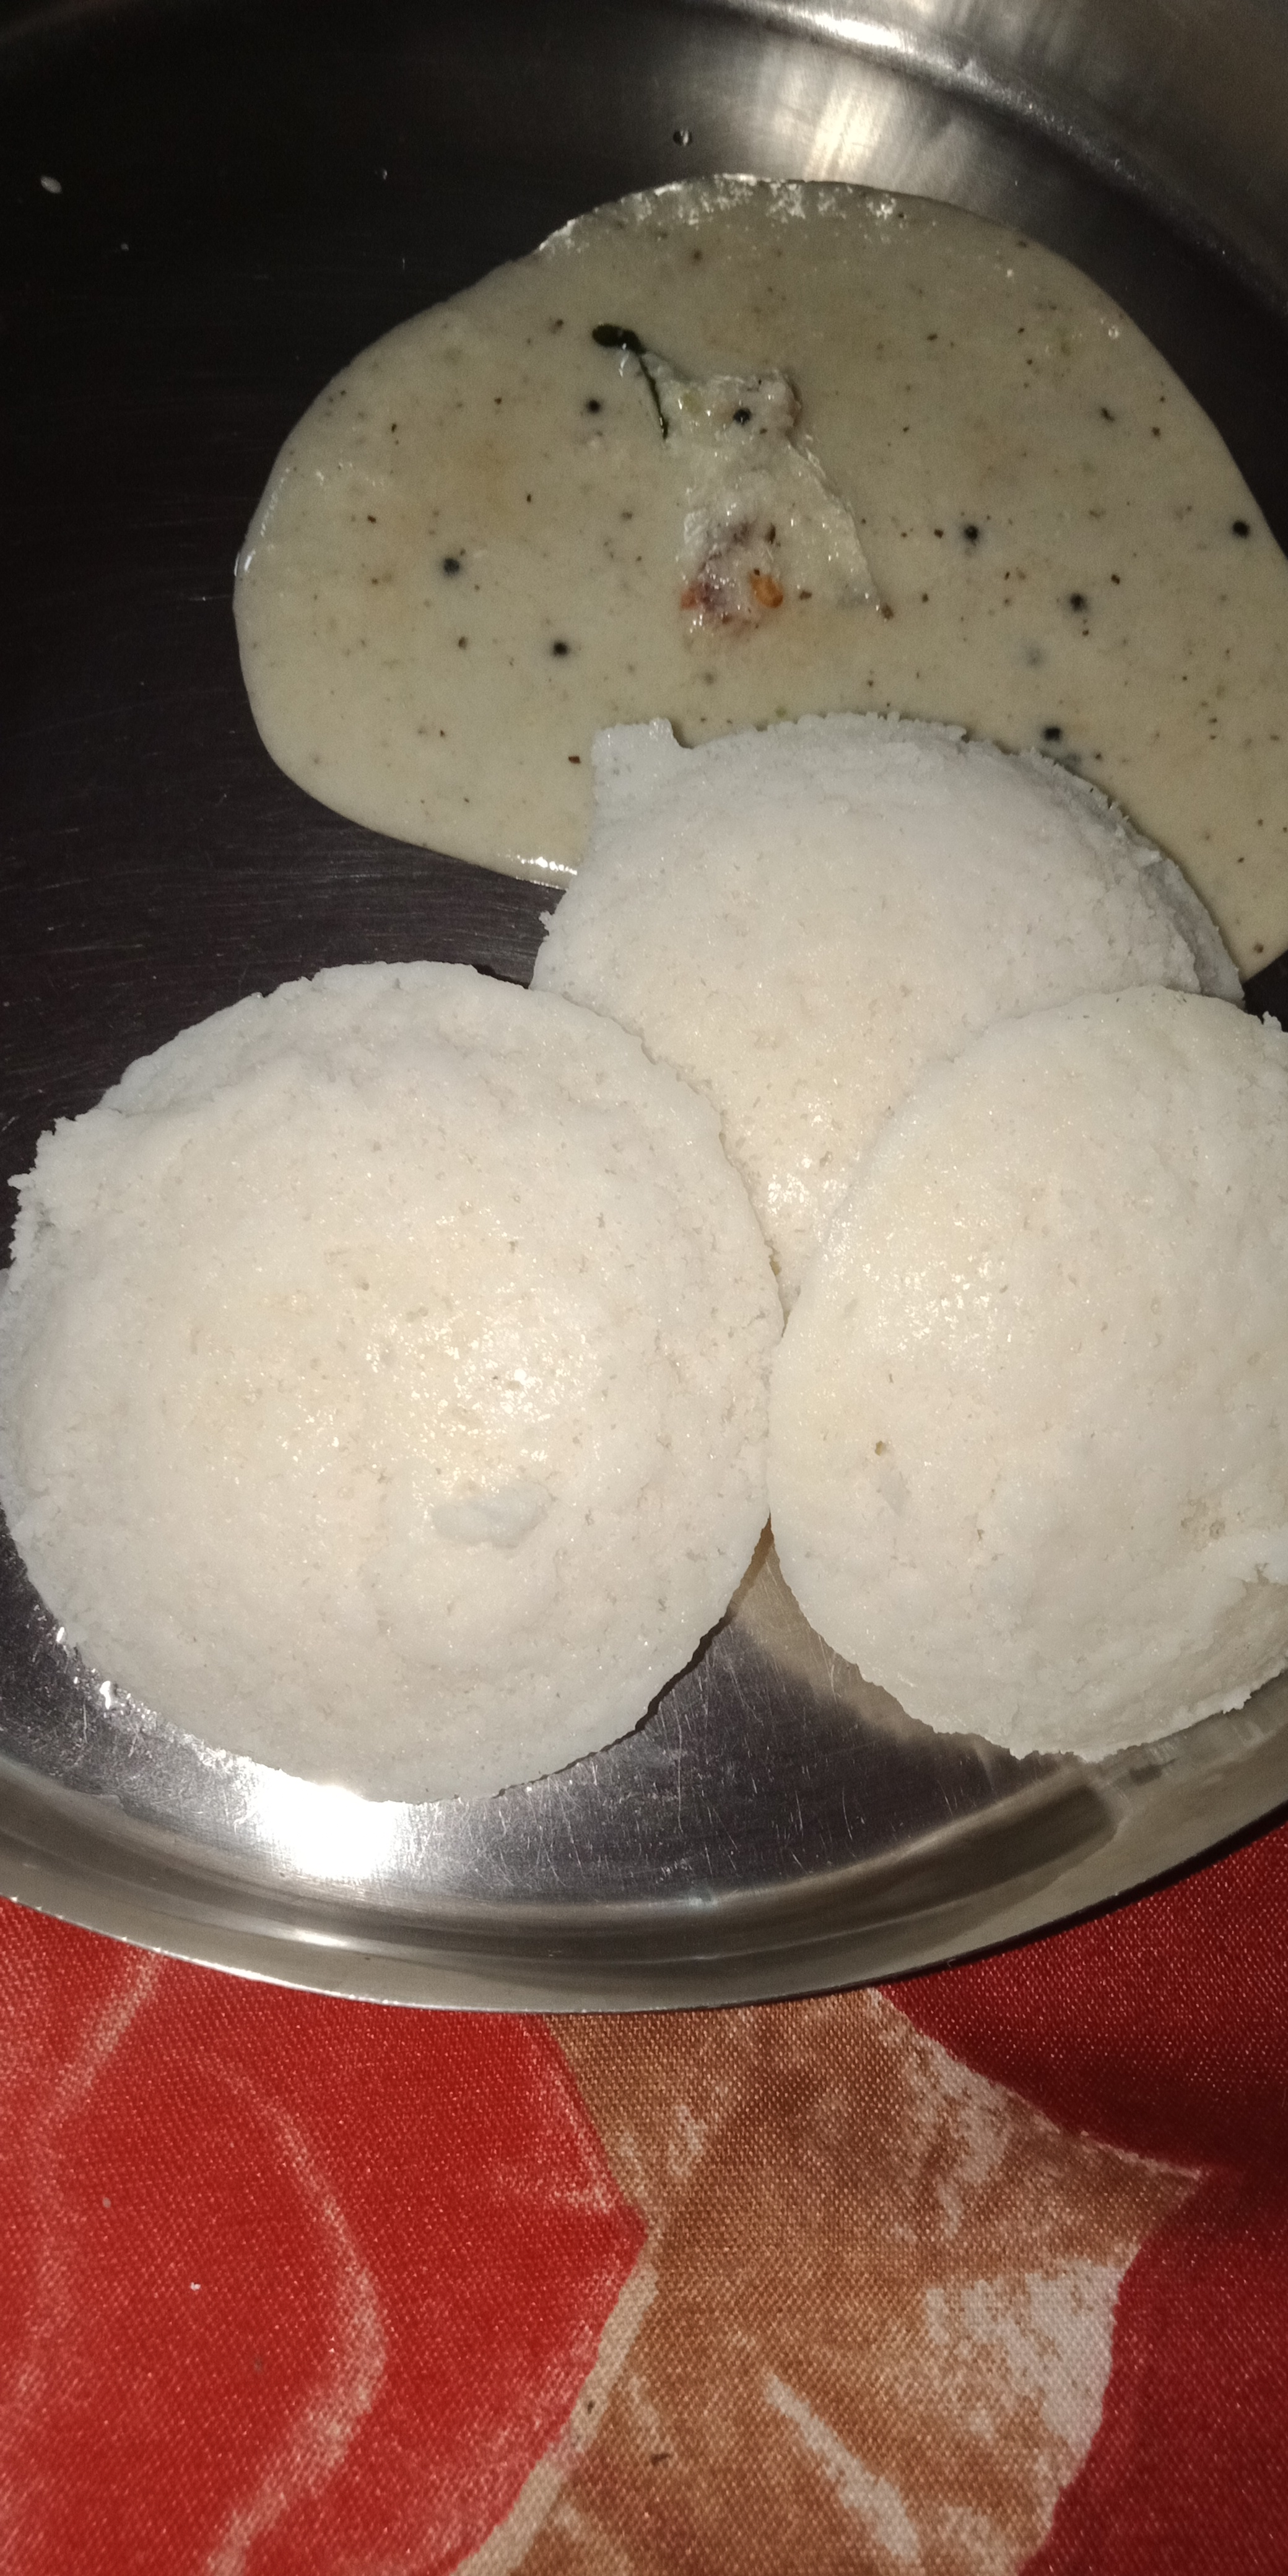food: (0, 153, 1288, 1815)
